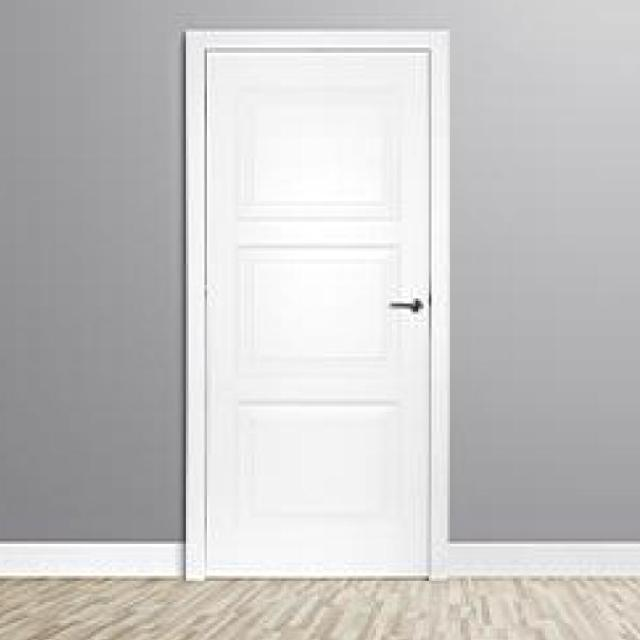door: (188, 30, 436, 581)
